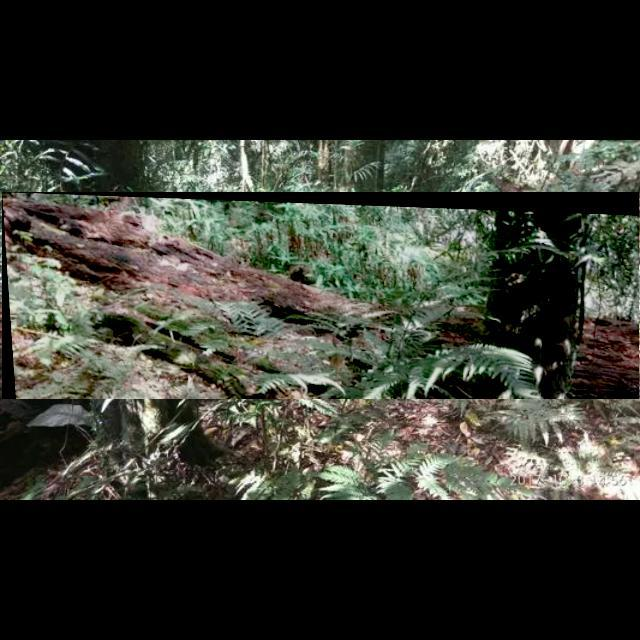fallen_tree: (2, 192, 640, 400)
